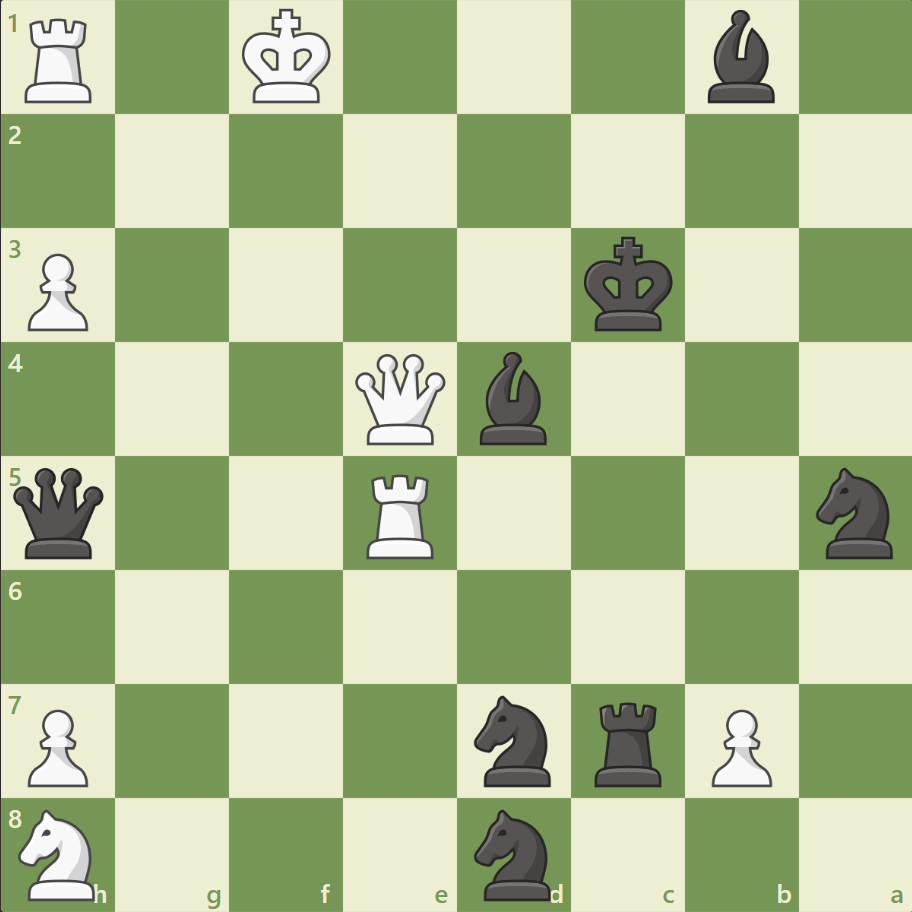K: (238, 4, 338, 112)
N: (11, 802, 108, 904)
P: (701, 700, 776, 791), (20, 700, 95, 791), (20, 246, 95, 337)
Q: (351, 349, 450, 449)
R: (19, 12, 102, 109), (360, 466, 442, 563)
b: (698, 6, 782, 109), (471, 347, 555, 449)
k: (579, 231, 679, 339)
n: (465, 688, 562, 791), (806, 461, 903, 564), (465, 802, 562, 904)
q: (10, 463, 109, 562)
r: (587, 693, 670, 790)
